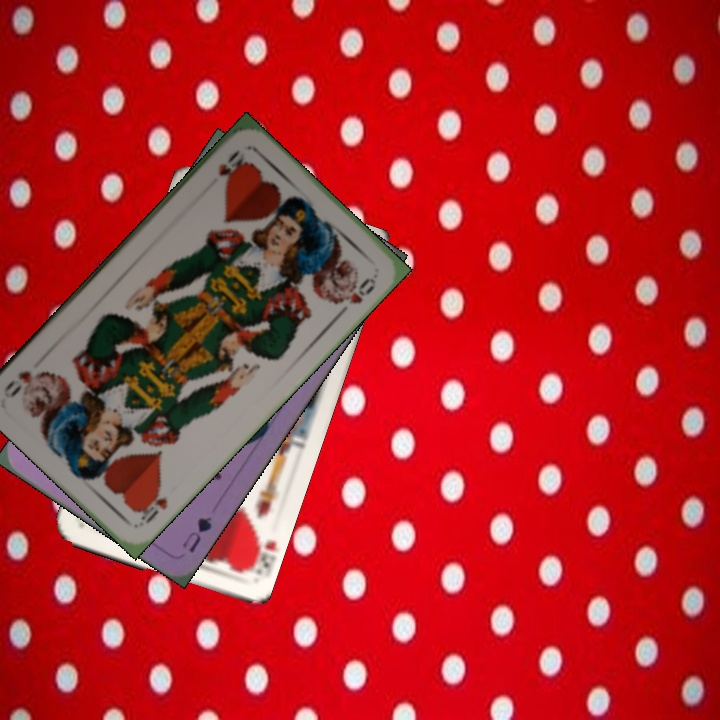GU: (178, 512, 215, 556)
HK: (242, 532, 279, 578)
HO: (131, 484, 171, 529), (214, 145, 247, 182)
